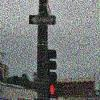traffic lights: (44, 82, 60, 100)
